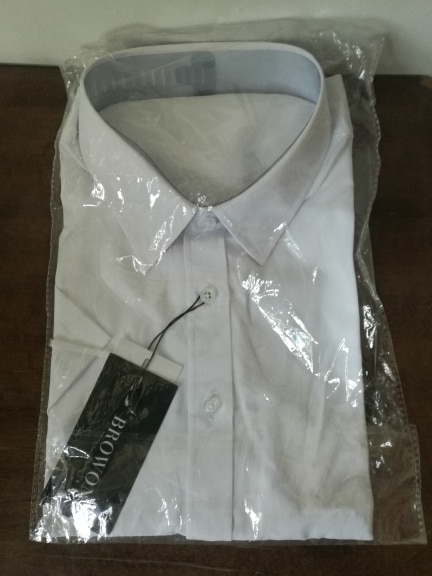shirts: (67, 50, 349, 560)
